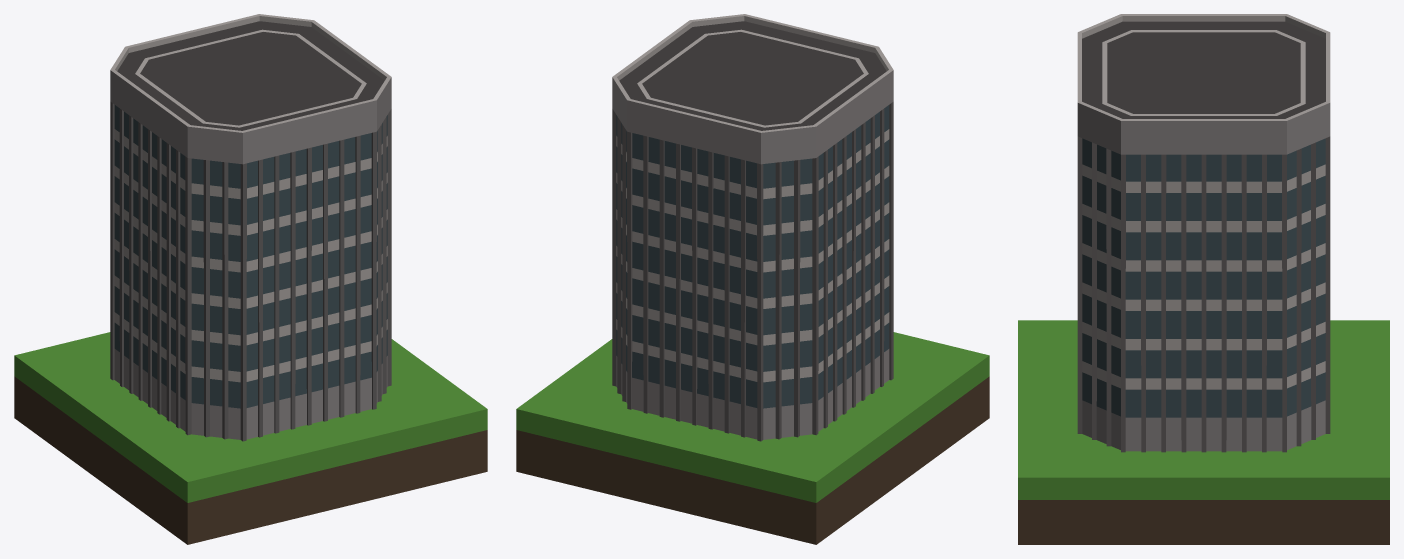
Rendered from tiles_skyscraper.fbx.
The picture shows the model from 3 angles, left to right: view 1: azimuth 30°, elevation 25°; view 2: azimuth 150°, elevation 25°; view 3: azimuth 270°, elevation 25°; orthographic projection. The views are drawn at different scales.
Visible parts, largest first — view 1: tiles_skyscraper; view 2: tiles_skyscraper; view 3: tiles_skyscraper.
Part boxes in pixels (left/top/right/bottom): tiles_skyscraper: left=14, top=14, right=487, bottom=544; tiles_skyscraper: left=516, top=14, right=989, bottom=544; tiles_skyscraper: left=1018, top=14, right=1389, bottom=544.
Bounding box in the file's own units: 169 × 200 × 169.
